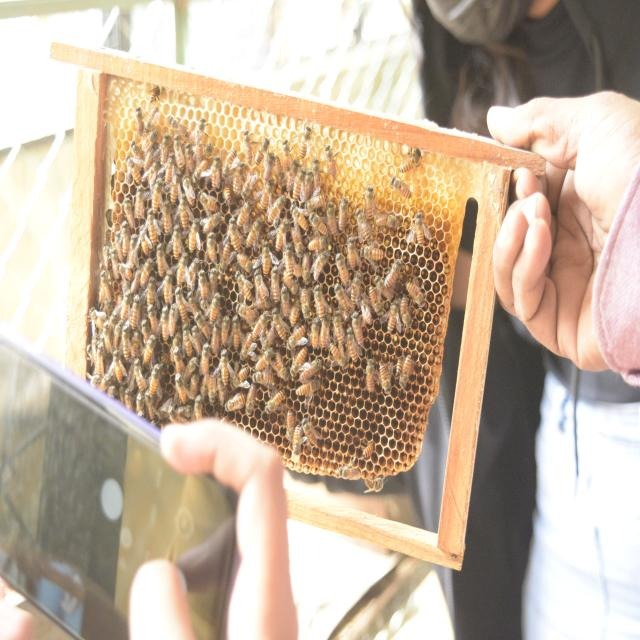honeybee: (386, 171, 413, 203), (332, 248, 356, 284), (394, 148, 426, 174), (110, 348, 134, 382), (386, 298, 404, 343), (285, 323, 310, 355), (246, 212, 264, 253), (145, 363, 164, 401), (194, 270, 212, 310), (236, 196, 257, 230), (182, 144, 198, 188), (353, 210, 375, 242), (146, 276, 162, 320), (144, 296, 161, 337), (168, 302, 184, 345), (234, 269, 253, 305), (281, 244, 303, 275), (216, 243, 233, 283), (333, 286, 360, 311), (116, 222, 132, 264), (263, 388, 286, 417), (347, 269, 364, 308), (255, 240, 275, 273), (237, 252, 257, 285), (186, 214, 202, 255), (324, 200, 342, 236), (412, 211, 430, 247), (105, 250, 122, 288), (399, 356, 416, 394), (206, 235, 222, 275), (193, 311, 215, 340), (190, 117, 209, 150), (253, 346, 279, 370), (323, 142, 339, 181), (159, 305, 175, 344), (98, 326, 120, 354), (279, 282, 294, 323), (220, 145, 238, 179), (291, 193, 307, 231), (210, 322, 226, 360), (240, 386, 260, 416), (149, 173, 162, 219), (252, 366, 278, 389), (223, 386, 241, 419), (125, 234, 140, 273), (362, 475, 388, 497), (354, 314, 369, 352), (175, 286, 190, 324), (168, 113, 188, 141), (382, 257, 398, 292), (310, 283, 326, 318), (296, 378, 320, 401), (360, 244, 385, 266), (151, 242, 168, 274), (320, 318, 336, 352), (298, 126, 313, 162), (381, 363, 396, 399), (328, 338, 346, 368), (130, 360, 148, 390), (268, 192, 284, 225), (371, 285, 387, 318), (120, 197, 137, 228), (231, 363, 249, 392), (236, 303, 256, 329), (99, 270, 113, 307), (137, 225, 151, 262), (228, 313, 242, 350), (160, 200, 176, 232), (168, 404, 184, 436), (289, 227, 304, 261), (252, 311, 269, 341), (118, 288, 132, 324), (203, 211, 224, 235), (405, 279, 425, 304), (289, 424, 305, 455), (289, 348, 304, 381), (180, 325, 195, 358), (228, 219, 242, 254), (218, 351, 232, 386), (300, 358, 321, 381), (333, 315, 348, 347), (146, 210, 160, 244), (138, 257, 152, 291), (400, 293, 414, 327), (174, 254, 188, 288), (336, 465, 364, 482), (146, 85, 164, 111), (208, 151, 220, 190), (348, 327, 361, 363), (270, 355, 289, 379), (299, 285, 312, 320), (174, 371, 187, 406), (191, 326, 204, 361), (133, 190, 147, 222), (343, 240, 357, 272), (188, 373, 202, 405), (186, 255, 199, 289), (374, 279, 393, 302), (254, 134, 268, 165), (310, 316, 322, 352), (290, 294, 303, 327), (302, 165, 314, 200), (127, 154, 141, 184), (168, 170, 182, 200), (91, 346, 106, 374), (242, 130, 254, 165), (298, 250, 312, 280), (88, 309, 107, 331), (163, 154, 176, 186), (167, 224, 180, 256), (144, 334, 157, 366), (272, 263, 282, 304), (359, 300, 374, 327), (271, 307, 284, 338), (194, 159, 210, 184), (200, 192, 220, 212), (112, 322, 124, 355), (274, 217, 286, 250), (208, 292, 220, 325), (254, 278, 268, 306), (364, 359, 375, 394), (162, 267, 173, 302), (375, 214, 395, 233), (178, 202, 191, 231), (258, 327, 275, 349), (141, 131, 158, 153), (138, 318, 155, 340), (314, 157, 326, 188), (304, 420, 316, 451), (170, 348, 186, 371), (166, 330, 182, 353), (312, 248, 325, 276), (286, 157, 297, 190), (143, 144, 158, 168), (132, 334, 144, 364), (147, 396, 159, 426), (258, 184, 271, 211), (293, 165, 302, 204), (196, 342, 209, 369), (340, 196, 350, 231), (127, 294, 139, 323), (217, 313, 229, 342), (306, 192, 323, 212), (129, 142, 143, 166), (122, 323, 130, 365), (309, 212, 323, 236), (135, 390, 147, 418), (103, 242, 114, 272), (139, 165, 154, 187), (160, 133, 171, 163), (183, 180, 196, 205), (244, 170, 256, 197), (364, 188, 376, 215), (146, 102, 156, 134), (308, 238, 328, 254), (175, 140, 185, 172), (287, 407, 297, 439), (217, 380, 230, 404), (136, 105, 146, 136), (283, 268, 294, 296), (282, 137, 292, 167), (185, 358, 198, 381), (272, 156, 284, 180), (124, 388, 136, 412), (262, 148, 271, 178), (207, 373, 216, 403), (362, 442, 373, 466), (187, 292, 197, 318), (202, 374, 212, 400), (233, 166, 242, 193), (206, 263, 216, 287), (106, 382, 118, 400), (224, 184, 234, 205), (89, 372, 102, 388), (85, 349, 97, 365), (132, 269, 139, 295), (195, 401, 203, 423), (119, 385, 127, 405), (101, 378, 112, 392), (395, 359, 402, 374)
